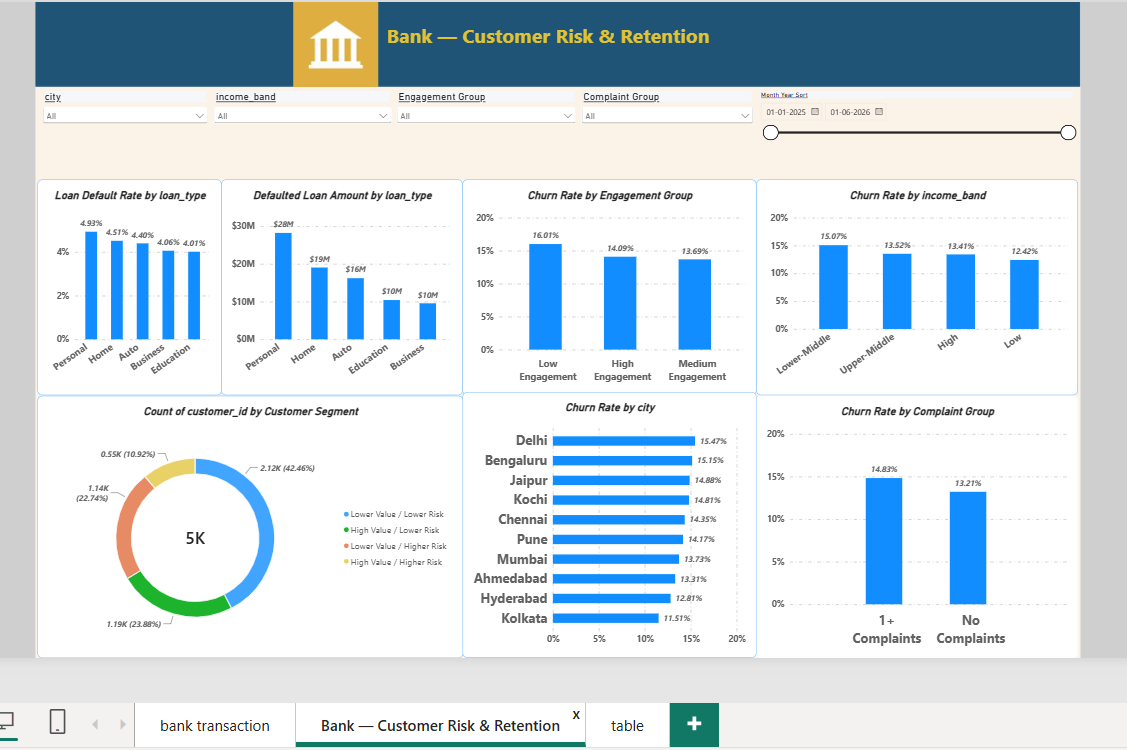

The dashboard page shown, as its layout file describes it:
{"tool":"powerbi","page":{"name":"Bank — Customer Risk & Retention","canvas":[1920,1080],"ordinal":1},"visuals":[{"type":"clusteredColumnChart","fields":{"Category":["customer_behaviours.Engagement Group"],"Y":["customers.Churn Rate"]},"box":[803.7,292.4,483.7,354.9],"z":0},{"type":"clusteredColumnChart","fields":{"Category":["customer_behaviours.Complaint Group"],"Y":["customers.Churn Rate"]},"box":[1287.4,647.4,529.7,432.2],"z":1000},{"type":"clusteredColumnChart","fields":{"Category":["customers.income_band"],"Y":["customers.Churn Rate"]},"box":[1287.4,292.4,529.7,354.9],"z":2000},{"type":"clusteredBarChart","fields":{"Category":["customers.city"],"Y":["customers.Churn Rate"]},"box":[803.7,641.8,483.7,437.7],"z":3000},{"type":"clusteredColumnChart","fields":{"Category":["loan1.loan_type"],"Y":["loan1.Loan Default Rate"]},"box":[103,292.4,303.4,354.9],"z":4000},{"type":"clusteredColumnChart","fields":{"Category":["loan1.loan_type"],"Y":["loan1.Defaulted Loan Amount"]},"box":[406.4,292.4,397.2,354.9],"z":5000},{"type":"donutChart","fields":{"Category":["customer_behaviours.Customer Segment"],"Y":["Count(customer_behaviours.customer_id)"]},"box":[103,647.4,700.7,432.2],"z":6000},{"type":"slicer","fields":{"Values":["customers.city"]},"box":[106.7,147.1,281.4,86.4],"z":6001},{"type":"slicer","fields":{"Values":["customers.income_band"]},"box":[388,147.1,301.6,86.4],"z":6002},{"type":"slicer","fields":{"Values":["customer_behaviours.Engagement Group"]},"box":[689.7,147.1,305.3,86.4],"z":6003},{"type":"slicer","fields":{"Values":["customer_behaviours.Complaint Group"]},"box":[994.9,147.1,292.4,86.4],"z":6004},{"type":"slicer","fields":{"Values":["transactions1.Month Year Sort"]},"box":[1287.4,147.1,529.7,86.4],"z":6005},{"type":"textbox","box":[164.6,32.1,1558.7,81.2],"z":6008}]}

Visuals, with their boxes on the page's 1920x1080 design canvas (x1, y1, x2, y2). These are canvas units, not pixel positions in the 1127x750 screenshot, which may show the page scaled, cropped or inside an application window:
clusteredColumnChart - customer_behaviours.Engagement Group x customers.Churn Rate: 804/292/1287/647
clusteredColumnChart - customer_behaviours.Complaint Group x customers.Churn Rate: 1287/647/1817/1080
clusteredColumnChart - customers.income_band x customers.Churn Rate: 1287/292/1817/647
clusteredBarChart - customers.city x customers.Churn Rate: 804/642/1287/1080
clusteredColumnChart - loan1.loan_type x loan1.Loan Default Rate: 103/292/406/647
clusteredColumnChart - loan1.loan_type x loan1.Defaulted Loan Amount: 406/292/804/647
donutChart - customer_behaviours.Customer Segment x Count(customer_behaviours.customer_id): 103/647/804/1080
slicer - customers.city: 107/147/388/234
slicer - customers.income_band: 388/147/690/234
slicer - customer_behaviours.Engagement Group: 690/147/995/234
slicer - customer_behaviours.Complaint Group: 995/147/1287/234
slicer - transactions1.Month Year Sort: 1287/147/1817/234
textbox: 165/32/1723/113
